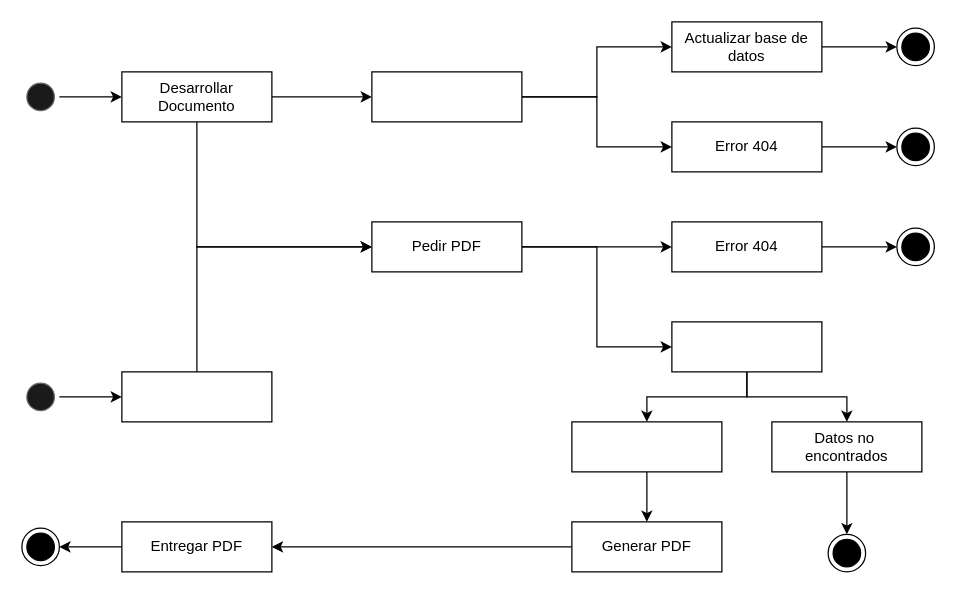
This 956x594 diagram has some shape labels left out. Each missing label, with the centre of its shape:
Cargar documento: the point at 196,396
Extraer datos de la base de datos: the point at 646,446
Pedir guardar cambios: the point at 446,96
Petición recibida: the point at 746,346
